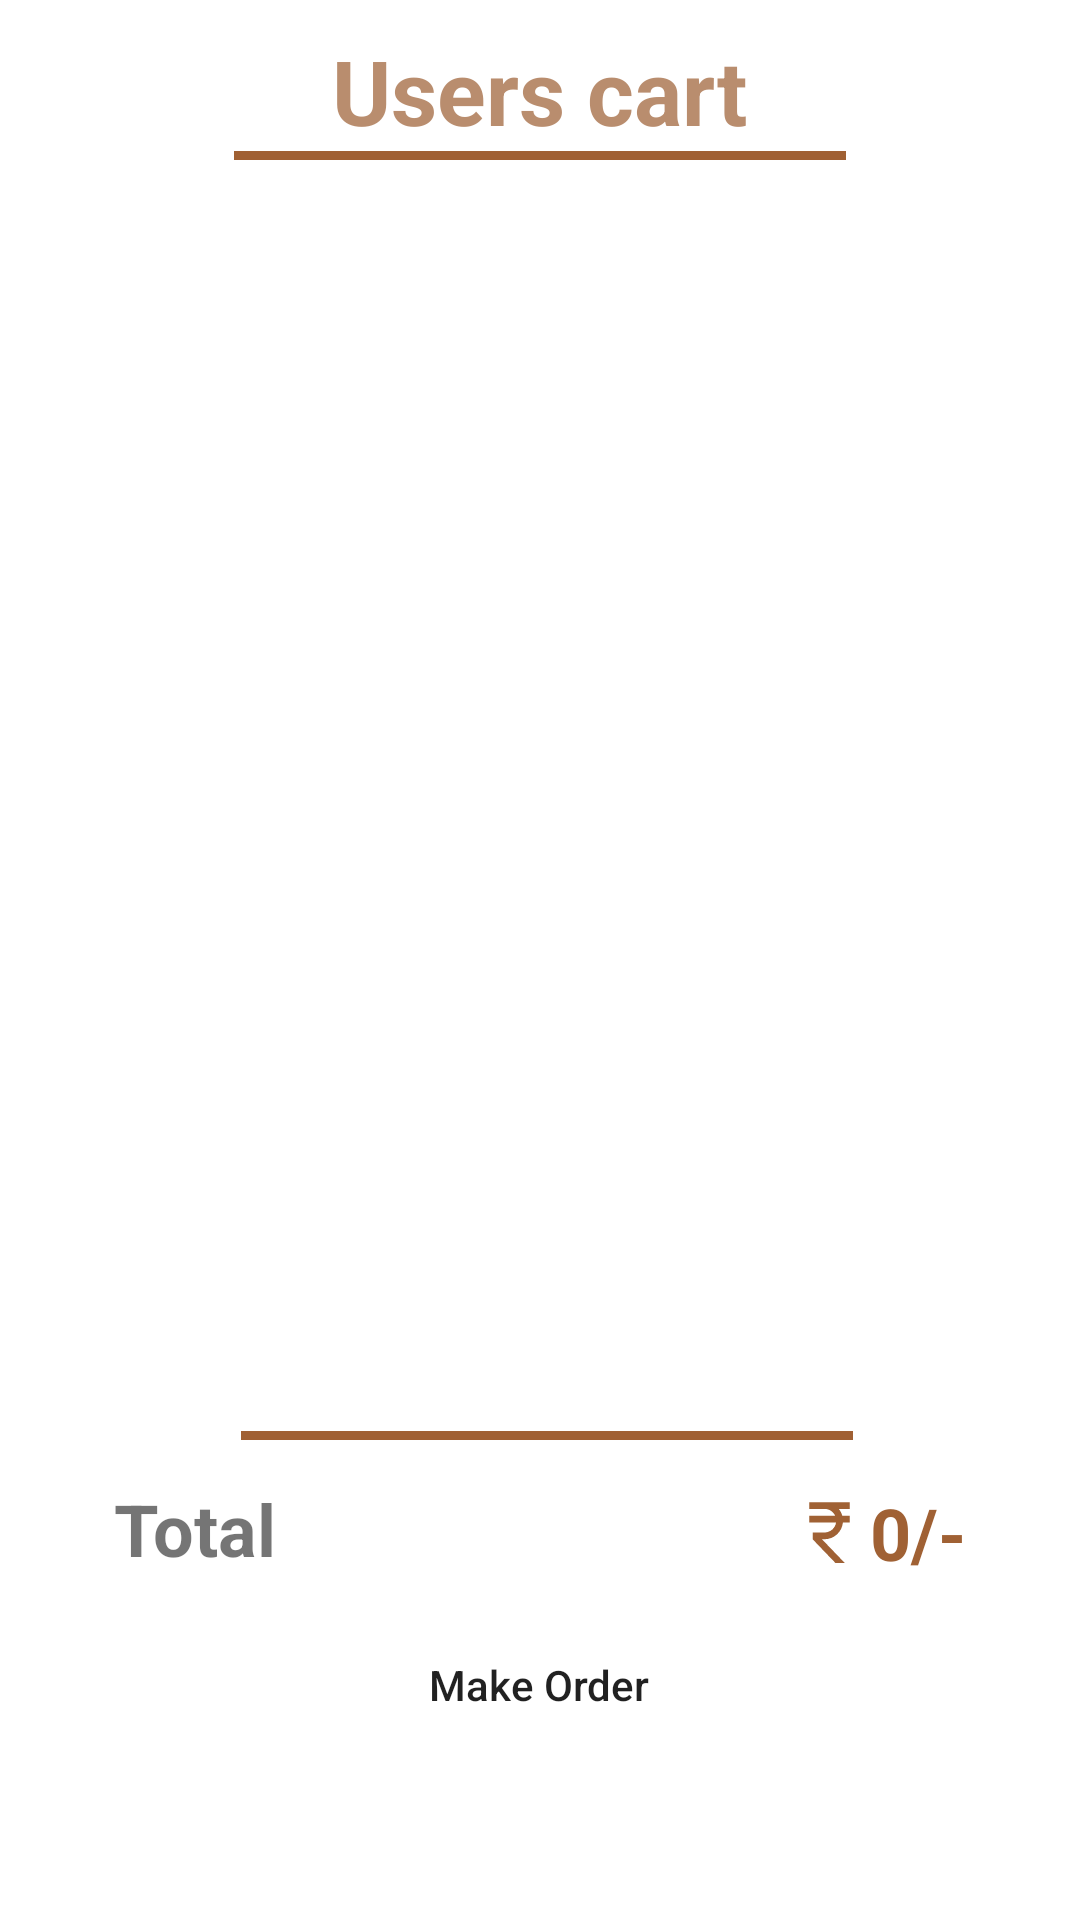

Icon click points for this 1080px x 1920px phone screenshot, format (x,y):
currency rupee: (829,1532)
